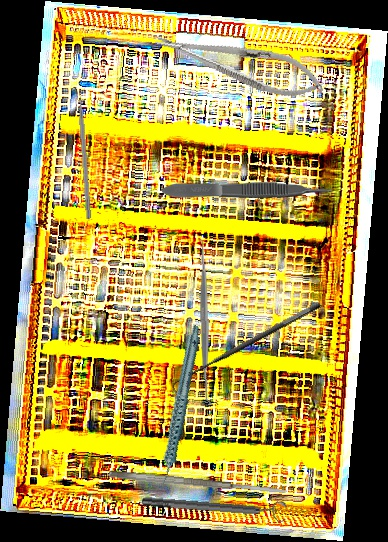Chopper: (76, 87, 99, 219)
Fixation Ring: (141, 488, 288, 525)
Handpiece: (123, 324, 233, 491)
Hook Surgical: (166, 299, 328, 400)
Needle Holder: (150, 18, 330, 108)
Spatula Surgical: (107, 468, 289, 498), (194, 238, 216, 405)
Tissue Forceps: (160, 180, 336, 202)
